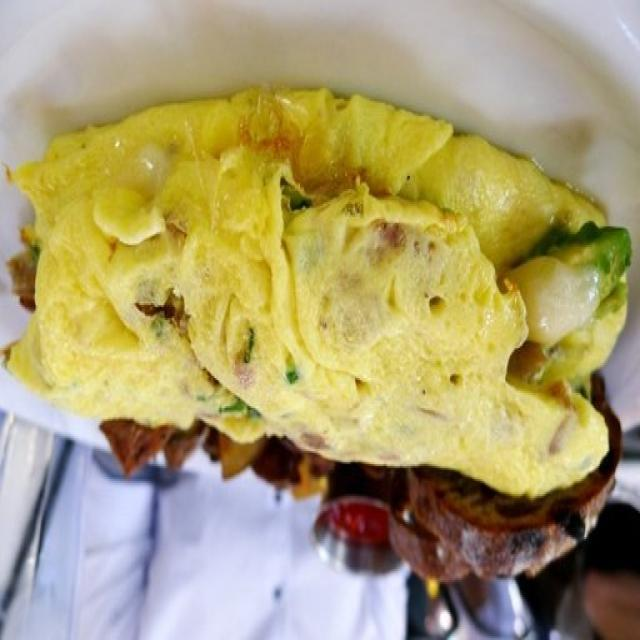telur_ayam_dadar: (0, 84, 633, 492)
